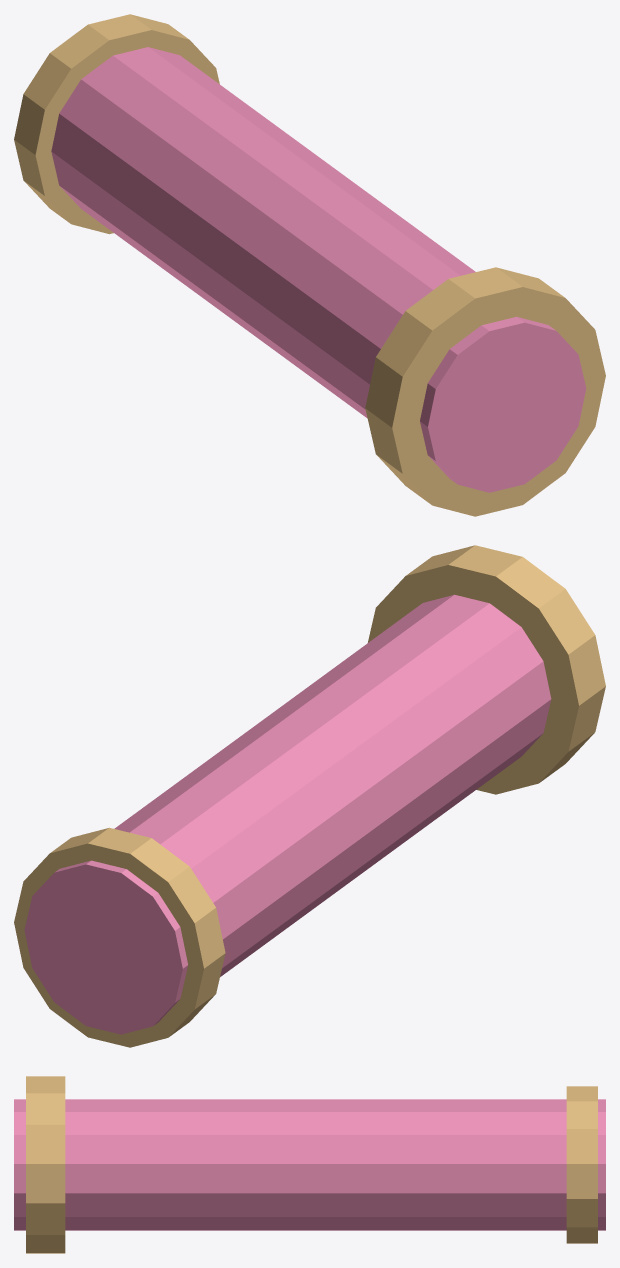
Rendered from HeavyBarrel.obj.
The picture shows the model from 3 angles, top to bottom: view 1: azimuth 30°, elevation 25°; view 2: azimuth 150°, elevation 25°; view 3: azimuth 270°, elevation 25°; orthographic projection. The views are drawn at different scales.
Visible parts, largest first — view 1: HeavyBarrel_Body, HeavyBarrel_Detail; view 2: HeavyBarrel_Body, HeavyBarrel_Detail; view 3: HeavyBarrel_Body, HeavyBarrel_Detail.
Boxes of the visible parts, box(x1,y1,x2,y2) form: HeavyBarrel_Body: box(51, 47, 586, 492); HeavyBarrel_Detail: box(14, 14, 605, 516); HeavyBarrel_Body: box(24, 594, 551, 1034); HeavyBarrel_Detail: box(14, 545, 605, 1047); HeavyBarrel_Body: box(14, 1099, 605, 1230); HeavyBarrel_Detail: box(26, 1076, 597, 1253).
Size of the model in its own units: 0.2295 by 0.2237 by 0.75.
